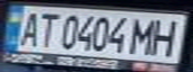0: (57, 11, 81, 50), (90, 14, 112, 52)
4: (106, 15, 133, 53), (75, 12, 96, 52)
A: (12, 9, 45, 47)
H: (145, 16, 187, 56)
M: (127, 15, 163, 56)
T: (33, 10, 60, 48)
